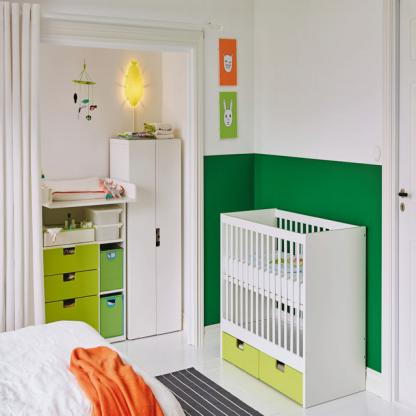Sofa: (0, 318, 190, 414)
